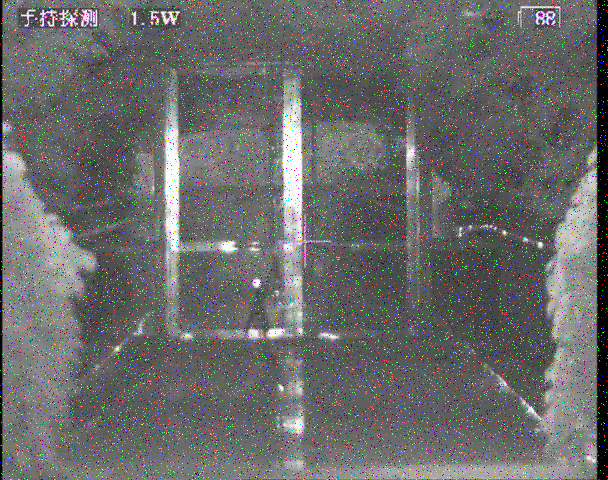my: (251, 278, 263, 288)
